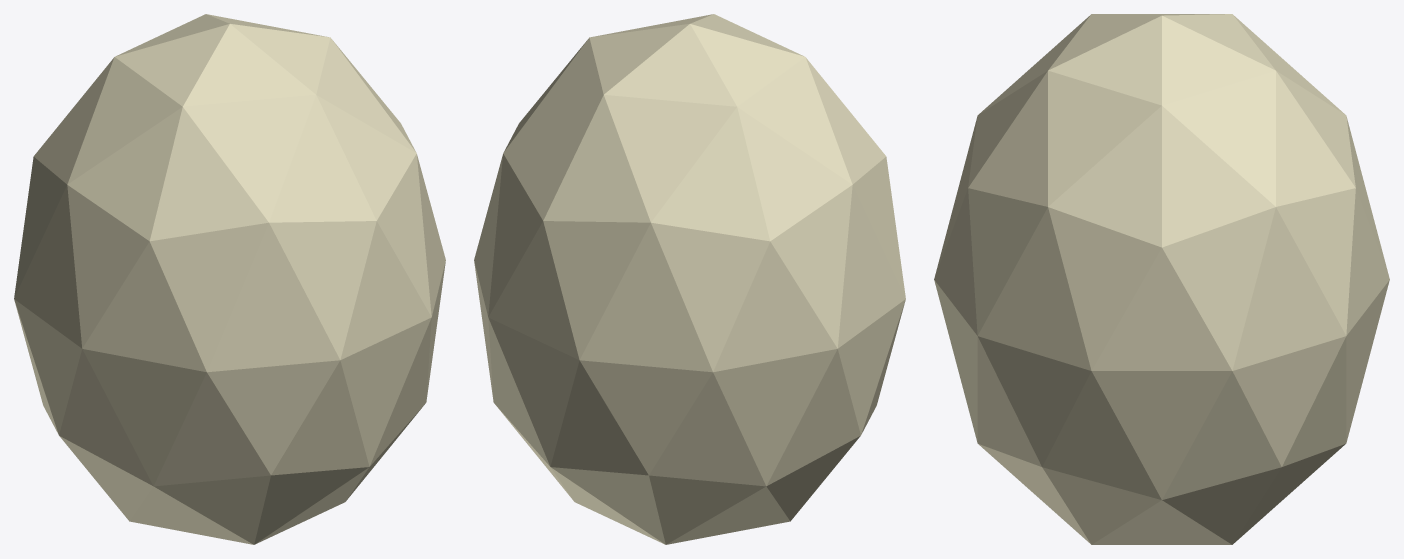
File: SM_Interact_ApprenticeHead.fbx
The picture shows the model from 3 angles, left to right: view 1: azimuth 30°, elevation 25°; view 2: azimuth 150°, elevation 25°; view 3: azimuth 270°, elevation 25°; orthographic projection. The views are drawn at different scales.
Parts seen in each view (by area): view 1: UE_FIX_SM_Interact_ApprenticeHead; view 2: UE_FIX_SM_Interact_ApprenticeHead; view 3: UE_FIX_SM_Interact_ApprenticeHead.
Boxes of the visible parts, x1,y1,x2,y2 form: UE_FIX_SM_Interact_ApprenticeHead: (14,14,445,544); UE_FIX_SM_Interact_ApprenticeHead: (474,14,905,544); UE_FIX_SM_Interact_ApprenticeHead: (934,14,1389,544).
Size of the model in its own units: 0.3424 by 0.36 by 0.46.
